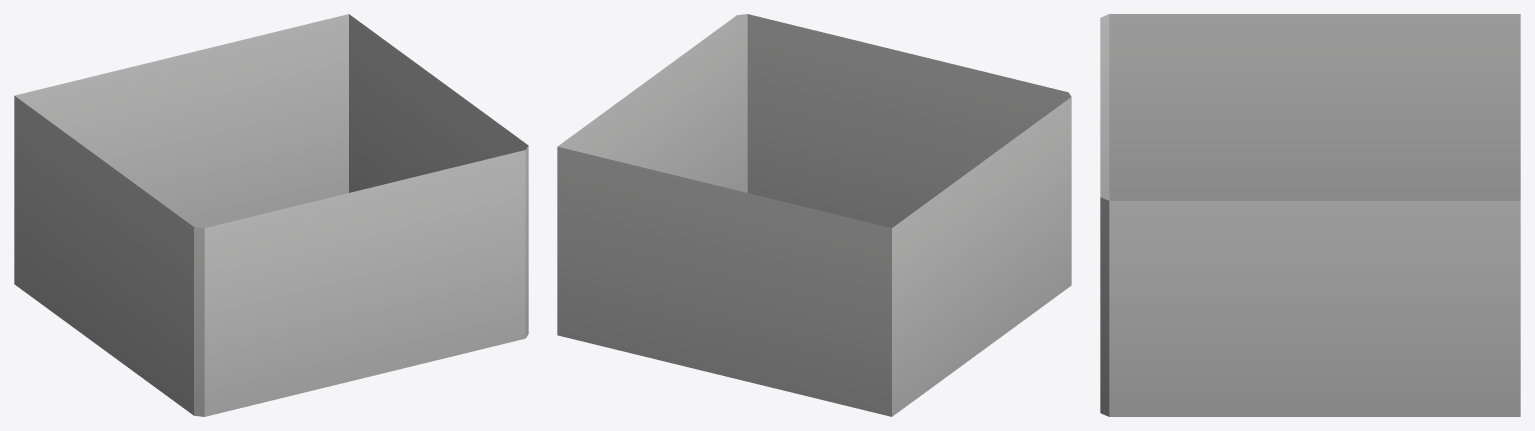
File: Counter_01_C02.fbx
The picture shows the model from 3 angles, left to right: view 1: azimuth 30°, elevation 25°; view 2: azimuth 150°, elevation 25°; view 3: azimuth 270°, elevation 25°; orthographic projection. The views are drawn at different scales.
Parts seen in each view (by area): view 1: Counter_01_C02; view 2: Counter_01_C02; view 3: Counter_01_C02.
Boxes of the visible parts, x1,y1,x2,y2 form: Counter_01_C02: (14,14,528,416); Counter_01_C02: (557,14,1071,416); Counter_01_C02: (1100,14,1520,416).
Size of the model in its own units: 100 by 53.91 by 94.97.
